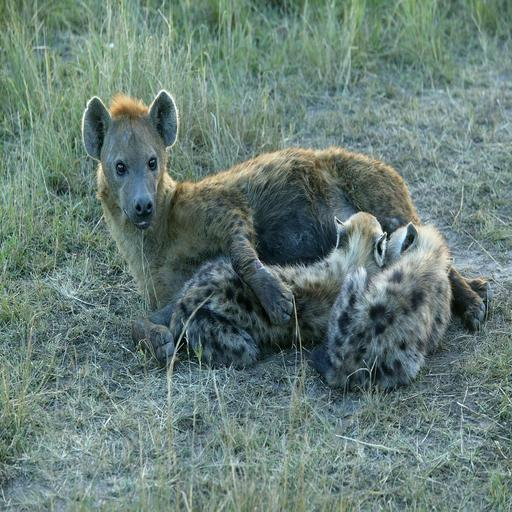Hyena: (73, 85, 491, 372), (326, 218, 463, 400), (208, 214, 392, 345)
